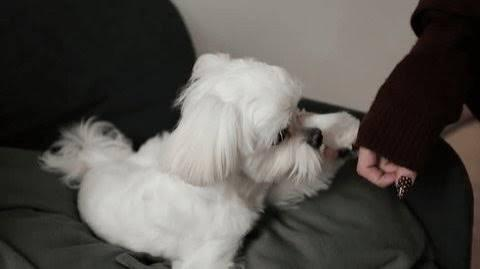adult_dog: (31, 51, 360, 269)
